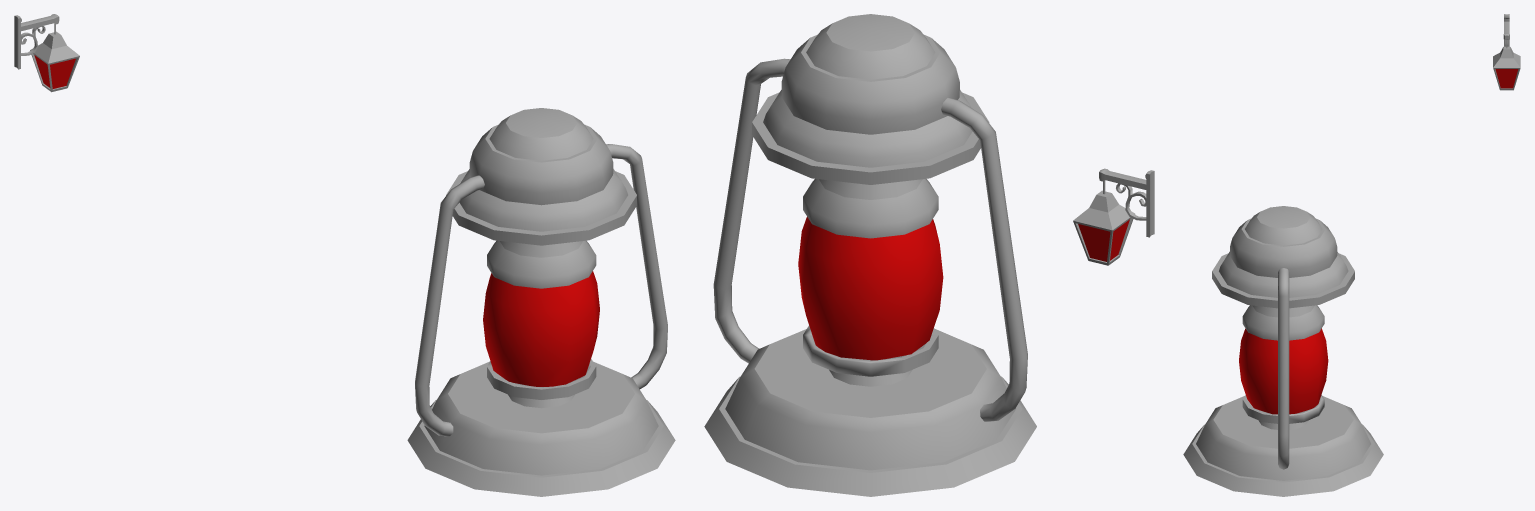
File: Lamps.fbx
3 renders of one model, left to right at view 1: azimuth 30°, elevation 25°; view 2: azimuth 150°, elevation 25°; view 3: azimuth 270°, elevation 25°, orthographic. The views are drawn at different scales.
Visible parts, largest first — view 1: Lamp1, WallLamp; view 2: Lamp1, WallLamp; view 3: Lamp1, WallLamp.
Part boxes in pixels (x1,y1,x2,y2): Lamp1: (407,108,675,496); WallLamp: (14,14,79,92); Lamp1: (704,14,1036,496); WallLamp: (1073,168,1154,265); Lamp1: (1183,206,1383,496); WallLamp: (1493,14,1520,90).
Bounding box in the file's own units: 0.1074 × 0.0829 × 0.0836.
